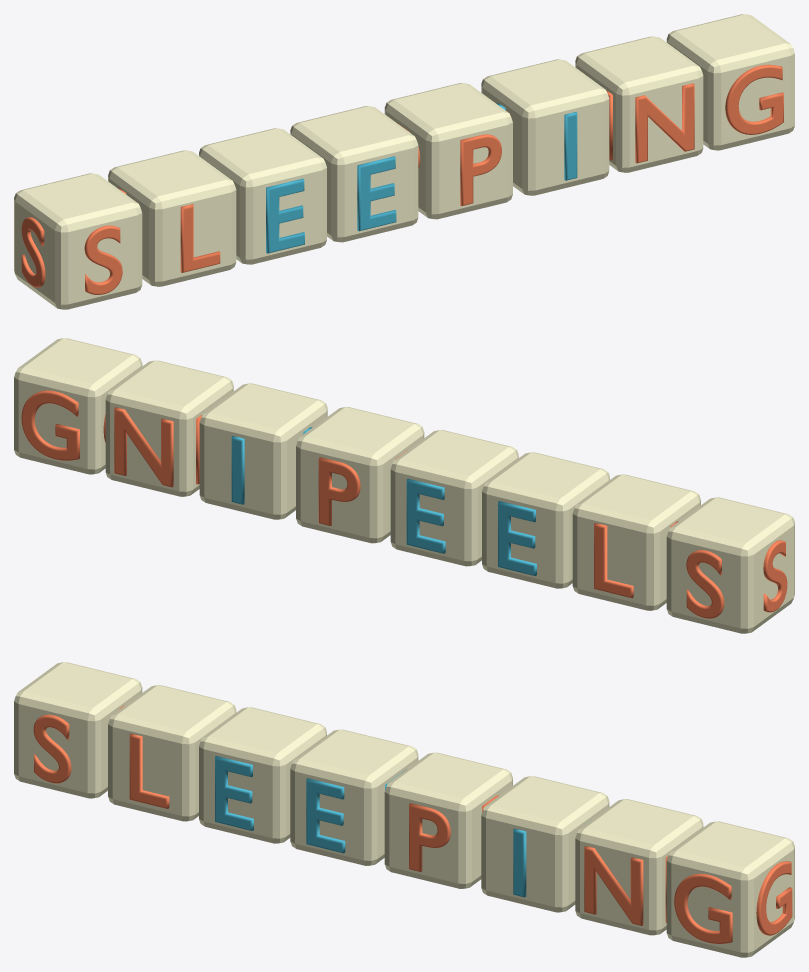
The model's file is sleeping.fbx.
3 views of the same model, one above another, from view 1: azimuth 30°, elevation 25°; view 2: azimuth 150°, elevation 25°; view 3: azimuth 330°, elevation 25° (orthographic).
Parts seen in each view (by area): view 1: Sleeping; view 2: Sleeping; view 3: Sleeping.
Boxes of the visible parts, x1,y1,x2,y2 form: Sleeping: (14, 14, 794, 309); Sleeping: (14, 338, 794, 633); Sleeping: (14, 662, 794, 957).
Bounding box in the file's own units: 1728 × 200 × 216.
